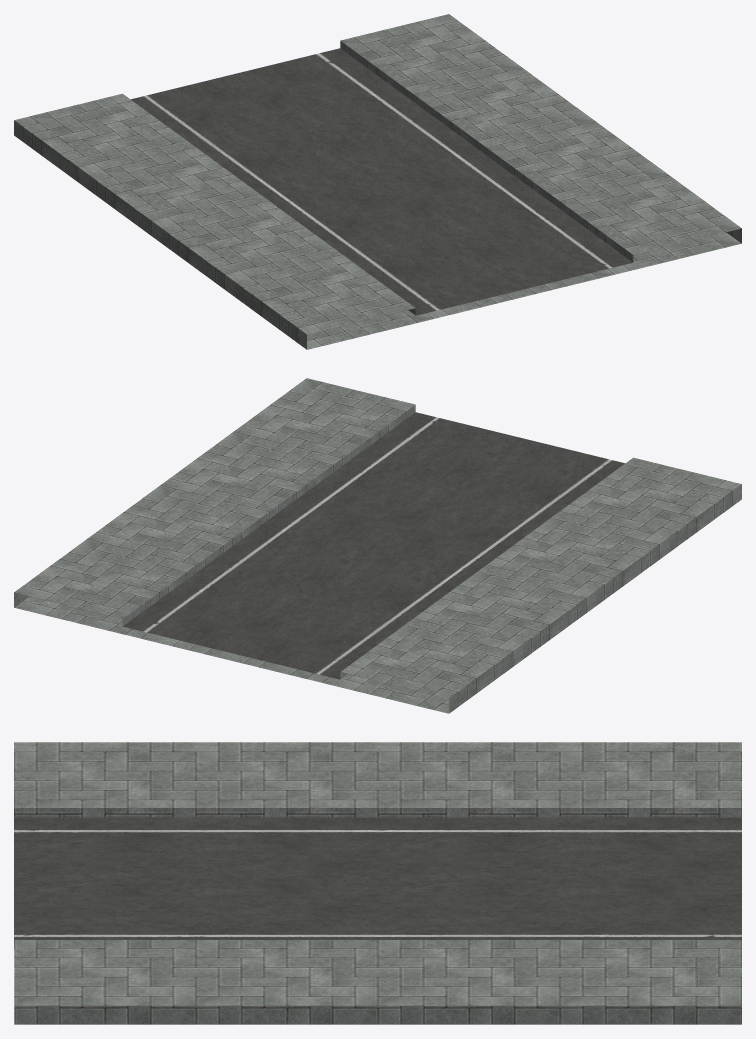
File: Straight Oneway.fbx
3 renders of one model, top to bottom at view 1: azimuth 30°, elevation 25°; view 2: azimuth 150°, elevation 25°; view 3: azimuth 270°, elevation 25°, orthographic. The views are drawn at different scales.
Visible parts, largest first — view 1: Plane; view 2: Plane; view 3: Plane.
Part boxes in pixels (<box>): Plane: <box>14,14,741,349</box>; Plane: <box>14,378,741,713</box>; Plane: <box>14,742,741,1024</box>.
Bounding box in the file's own units: 1200 × 40 × 1400.
